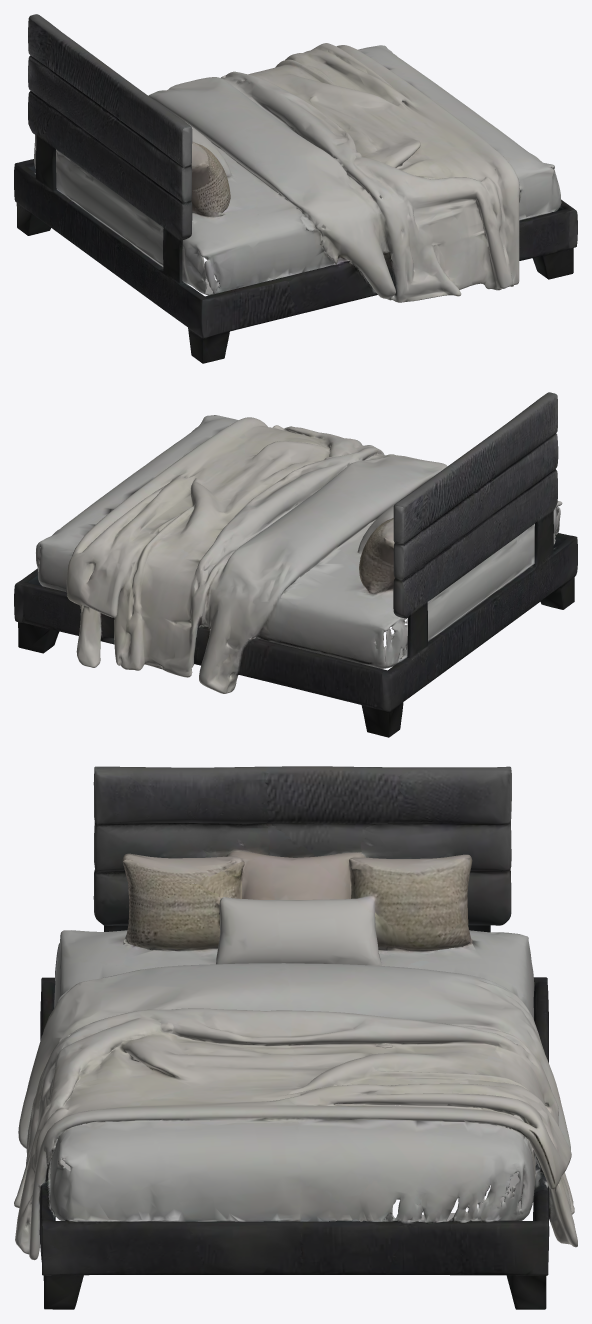
The picture shows the model from 3 angles, top to bottom: view 1: azimuth 30°, elevation 25°; view 2: azimuth 150°, elevation 25°; view 3: azimuth 270°, elevation 25°; orthographic projection. The views are drawn at different scales.
Parts seen in each view (by area): view 1: tripo_node_4e431b9e-e702-45e2-8a26-a7432d83a36d; view 2: tripo_node_4e431b9e-e702-45e2-8a26-a7432d83a36d; view 3: tripo_node_4e431b9e-e702-45e2-8a26-a7432d83a36d.
Part boxes in pixels (left/top/right/bottom): tripo_node_4e431b9e-e702-45e2-8a26-a7432d83a36d: left=14, top=14, right=577, bottom=363; tripo_node_4e431b9e-e702-45e2-8a26-a7432d83a36d: left=14, top=392, right=577, bottom=737; tripo_node_4e431b9e-e702-45e2-8a26-a7432d83a36d: left=14, top=766, right=577, bottom=1309.
Bounding box in the file's own units: 0.9999 × 0.565 × 0.9592.
Materials: 1 (1 with a texture image).
